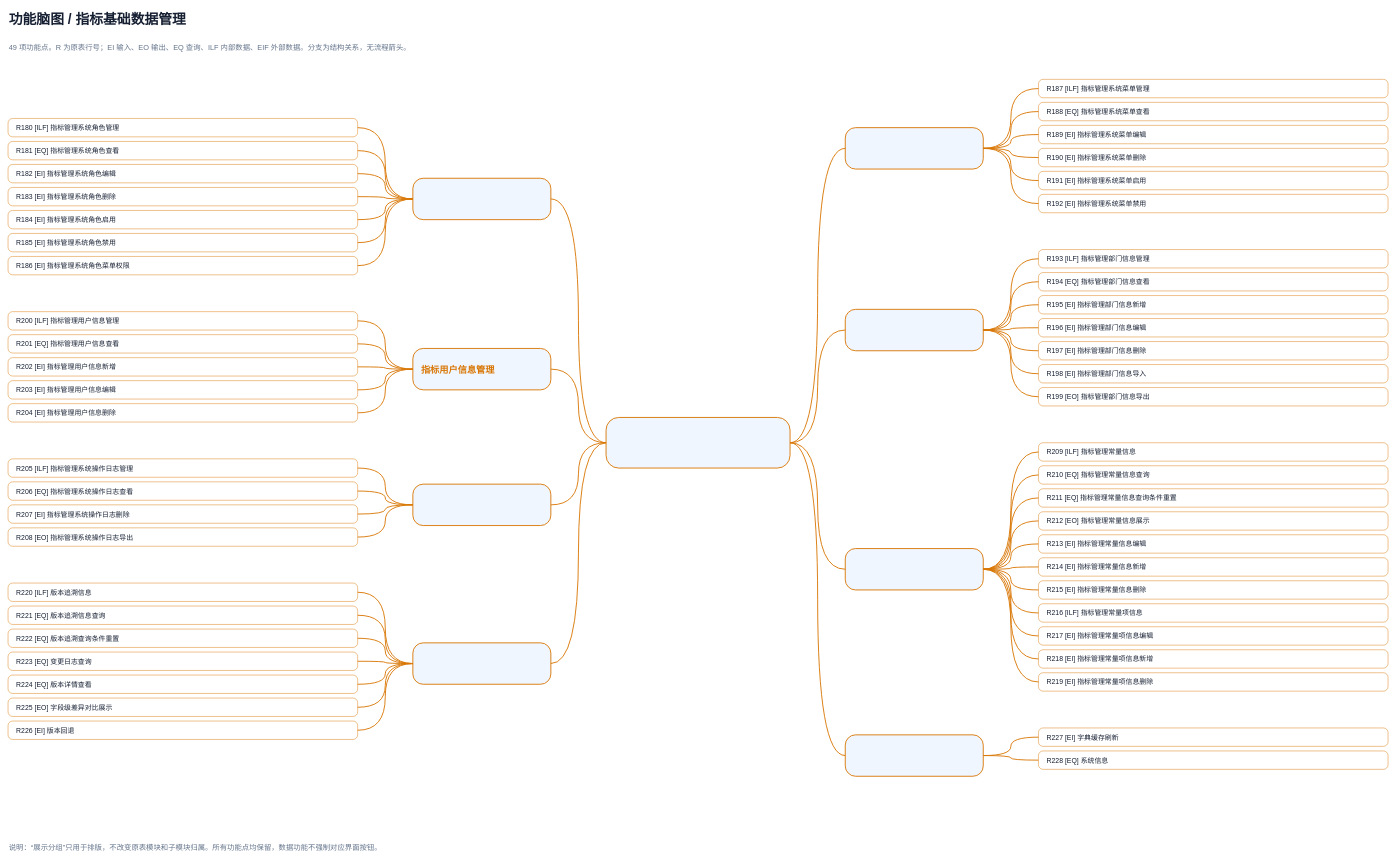
Image size: 1396x867. Some labels were removed from this diagram. The centre of each missing label's shape, as x and y in pixels:
"指标基础数据管理" belongs at (697,442).
"指标常量信息管理" belongs at (914,569).
"指标操作日志管理" belongs at (481,504).
"指标菜单管理" belongs at (914,148).
"指标角色管理" belongs at (481,199).
"指标部门信息管理" belongs at (914,330).
"版本追溯" belongs at (481,663).
"通用功能" belongs at (914,755).
